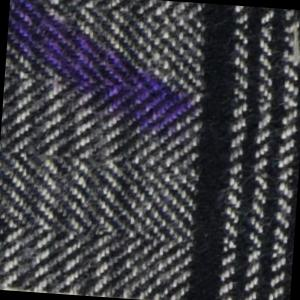Stain: (2, 1, 203, 151)
